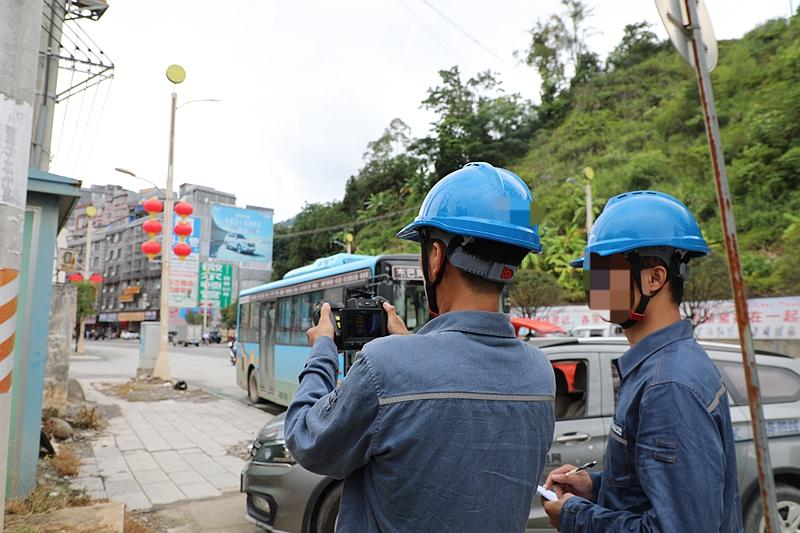halt: (397, 163, 545, 314), (574, 194, 714, 332)
inear: (630, 256, 678, 312), (422, 236, 456, 296)
